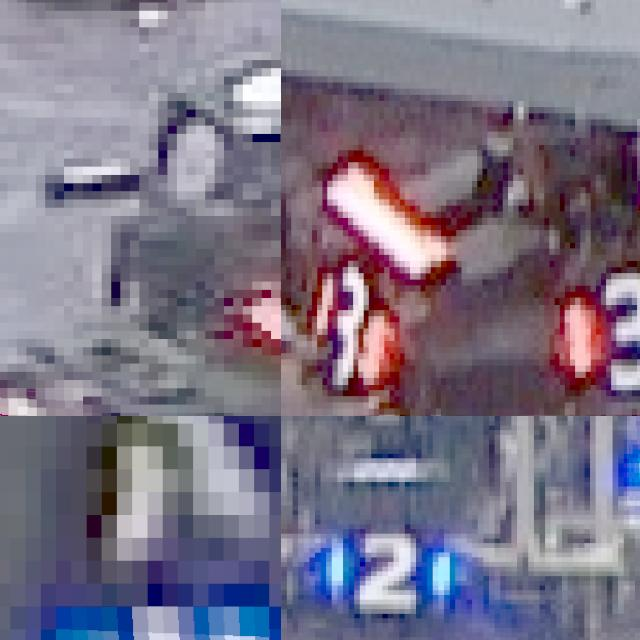B1: (55, 606, 269, 640)
B2: (315, 524, 450, 614), (626, 416, 640, 505)
R3: (306, 255, 399, 384), (554, 261, 640, 390)
